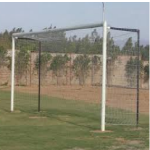goals: (8, 21, 142, 133)
